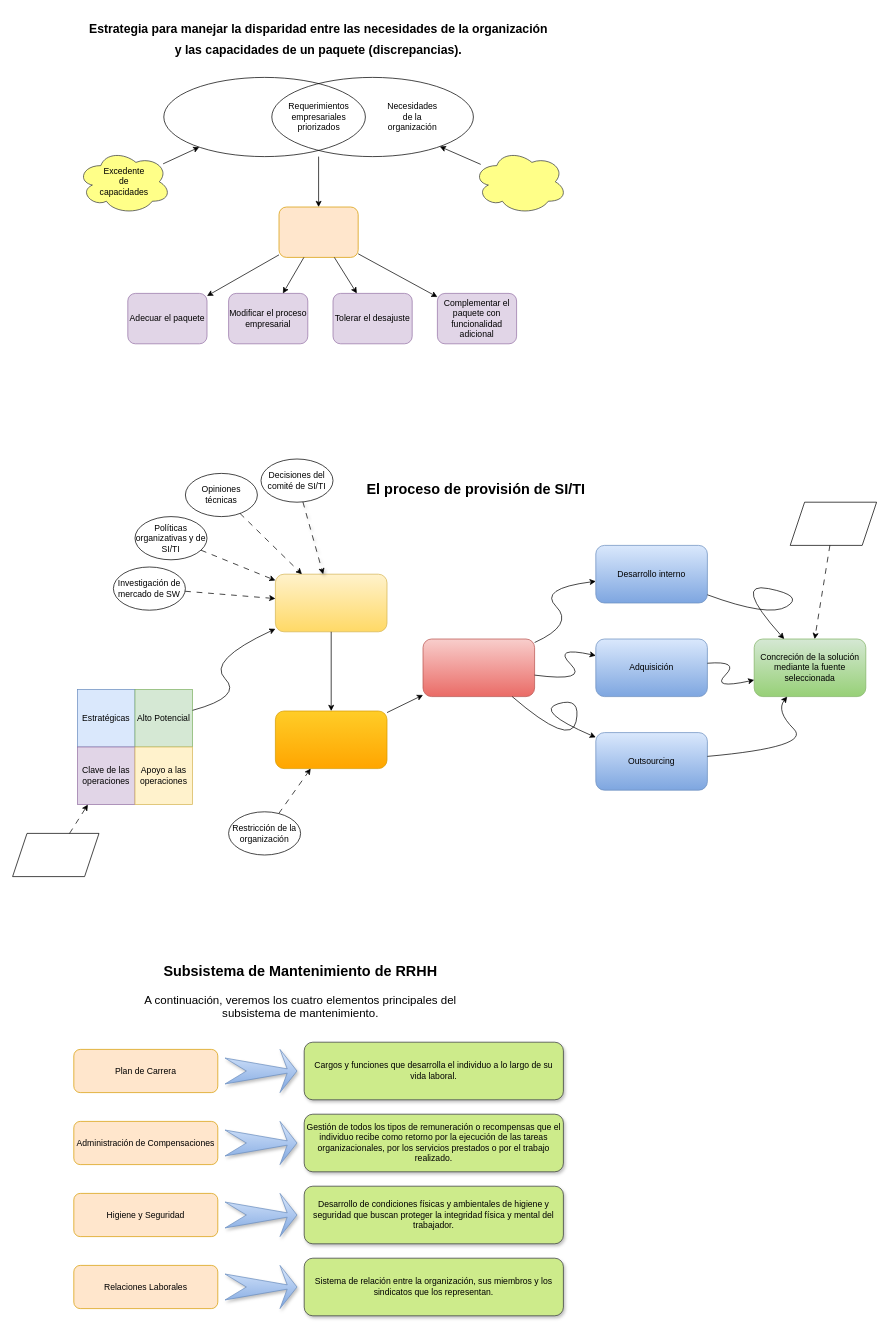
Image size: 889x1333. Some labels were removed from this diagram. The shapes that lost their labels are listed below. From the top down, each one's centre as x and y in pixels, then its label:
At (x=264, y=117): "Capacidades del paquete estándar".
At (x=520, y=181): "Necesidades no satisfechas".
At (x=318, y=231): "Plano de discrepancias".
At (x=833, y=523): "Parámetros cuantitavios y cualitativos".
At (x=331, y=602): "Investigación de las posibles fuentes de provisión".
At (x=478, y=667): "Selección de la fuente".
At (x=331, y=739): "Evaluación (o viabilidad) de las posibles fuentes de provisión".
At (x=55, y=855): "Cartera de aplicaciones".
